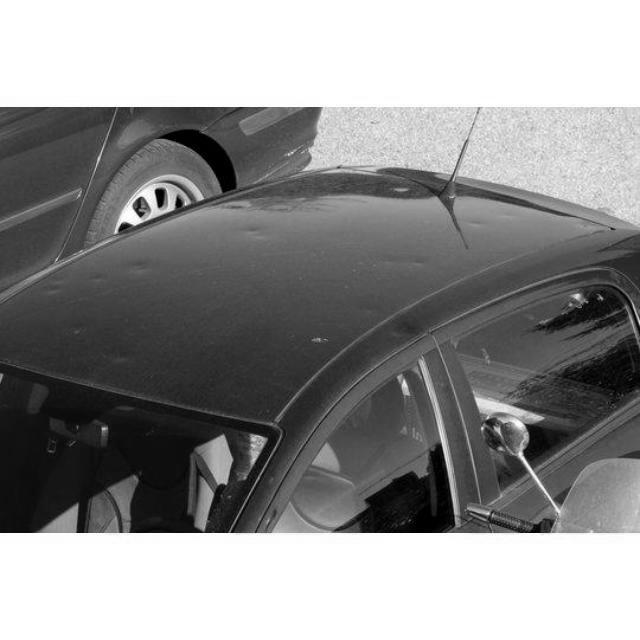roof-dent: (7, 251, 391, 445), (168, 201, 515, 390), (349, 170, 606, 354)
